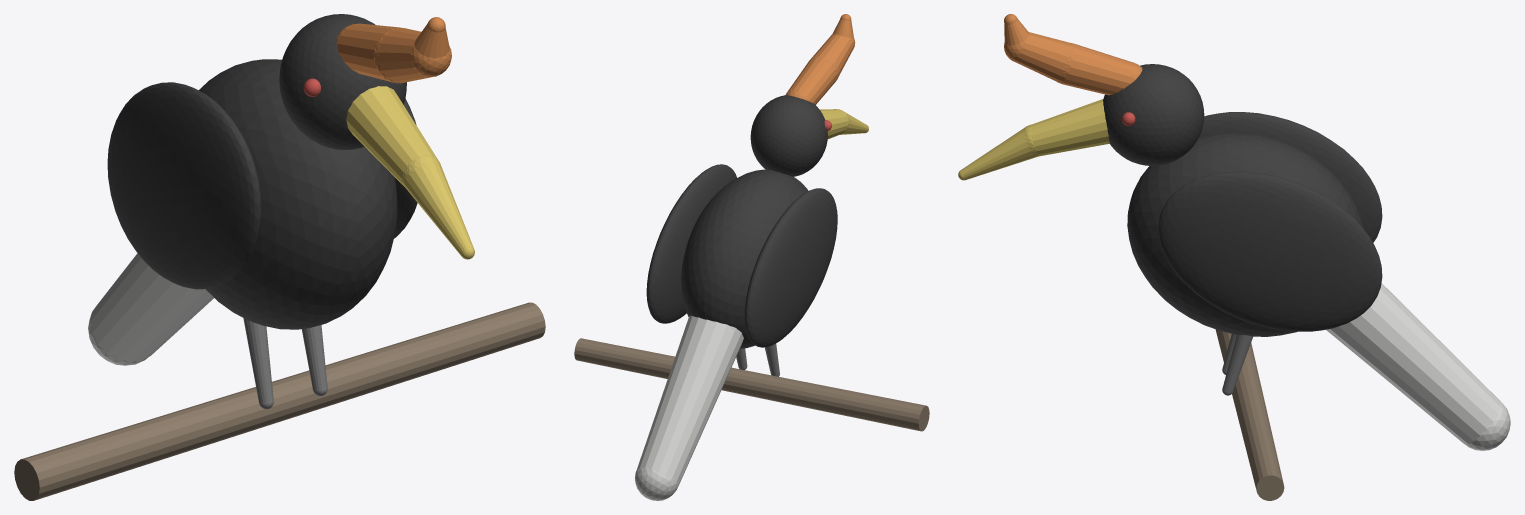
Rendered from rangkong-badak.glb.
3 views of the same model, side by side, from view 1: azimuth 30°, elevation 25°; view 2: azimuth 150°, elevation 25°; view 3: azimuth 270°, elevation 25° (orthographic). The views are drawn at different scales.
Parts seen in each view (by area): view 1: rangkong-badak; view 2: rangkong-badak; view 3: rangkong-badak.
Part boxes in pixels (x1,y1,x2,y2): rangkong-badak: [14, 14, 545, 500]; rangkong-badak: [574, 14, 929, 500]; rangkong-badak: [958, 14, 1510, 500].
Size of the model in its own units: 1.01 by 1.01 by 1.17.
